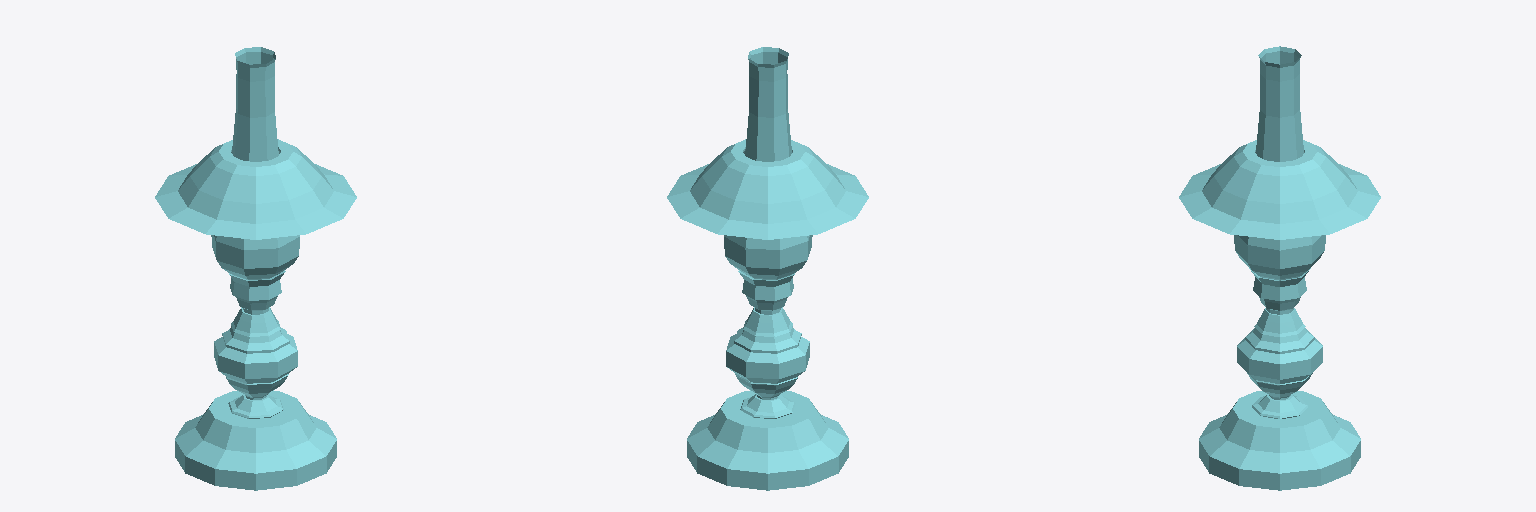
The model's file is Candle.obj.
3 views of the same model, side by side, from view 1: azimuth 30°, elevation 25°; view 2: azimuth 150°, elevation 25°; view 3: azimuth 270°, elevation 25° (orthographic).
Parts seen in each view (by area): view 1: Lamp; view 2: Lamp; view 3: Lamp.
Part boxes in pixels (x1,y1,x2,y2): Lamp: (155, 47, 356, 490); Lamp: (667, 47, 868, 490); Lamp: (1179, 46, 1380, 490).
Size of the model in its own units: 13.57 by 29.61 by 13.57.